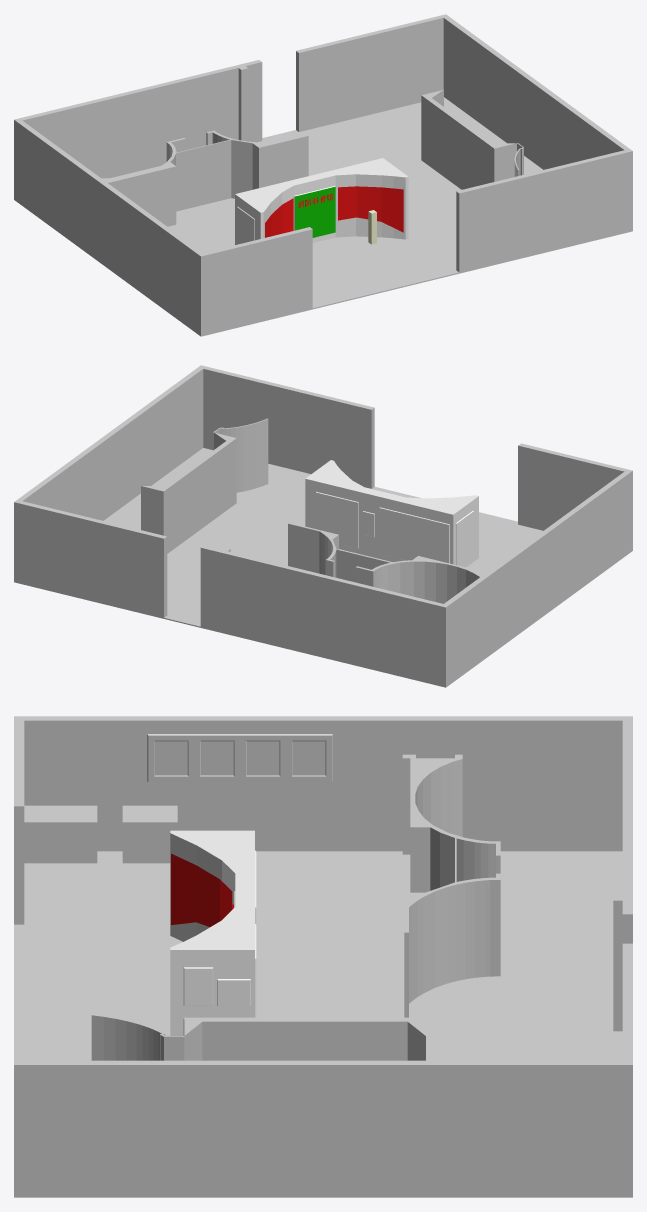
File: 01预制体源文件.FBX
The picture shows the model from 3 angles, top to bottom: view 1: azimuth 30°, elevation 25°; view 2: azimuth 150°, elevation 25°; view 3: azimuth 270°, elevation 25°; orthographic projection. The views are drawn at different scales.
Parts seen in each view (by area): view 1: 对象008, 对象003, 对象002, 对象004, 对象007; view 2: 对象008, 对象002, 对象004, 对象003; view 3: 对象008, 对象003, 对象004, 对象002, Box006, 对象006, 对象007, 对象005.
Boxes of the visible parts, x1,y1,x2,y2 form: 对象008: (14,14,632,336); 对象003: (102,130,308,226); 对象002: (235,158,408,244); 对象004: (421,90,523,189); 对象007: (265,186,403,237); 对象008: (14,365,632,687); 对象002: (305,460,478,567); 对象004: (141,418,268,553); 对象003: (288,522,486,603); 对象008: (14,716,632,1197); 对象003: (402,754,500,1017); 对象004: (91,1014,425,1060); 对象002: (170,830,256,1035); Box006: (147,734,332,781); 对象006: (24,805,97,863); 对象007: (171,853,232,926); 对象005: (122,805,177,863).
Size of the model in its own units: 60858 by 11361 by 45637.
